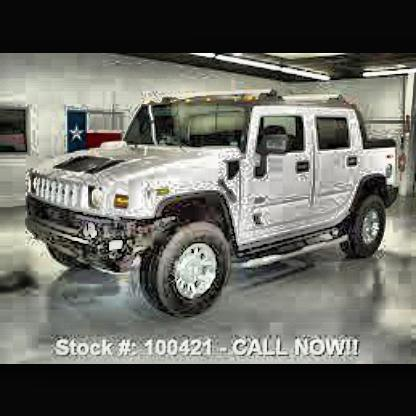HUMMER H2 SUT Crew Cab 2009: (30, 91, 402, 319)
